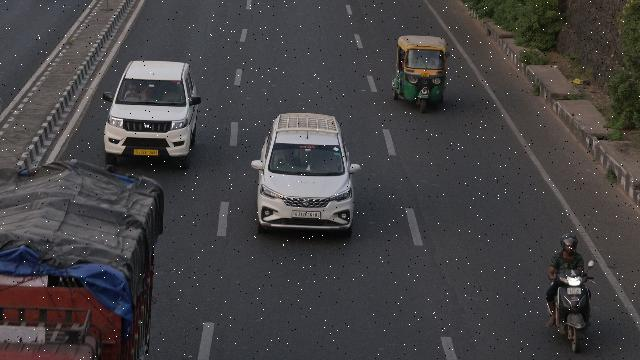With Helmet: (557, 232, 581, 252)
